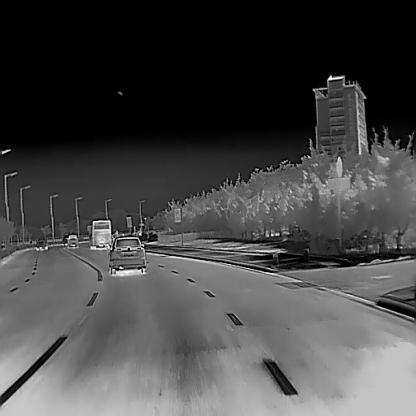bus: (87, 218, 110, 249)
car: (108, 235, 146, 276), (34, 235, 48, 250), (67, 233, 78, 246)
